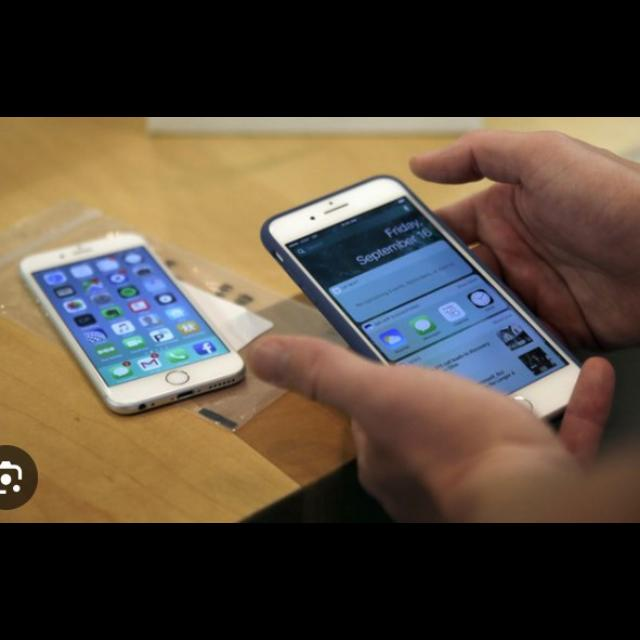Smartphone: (259, 175, 582, 432), (16, 235, 246, 417)
